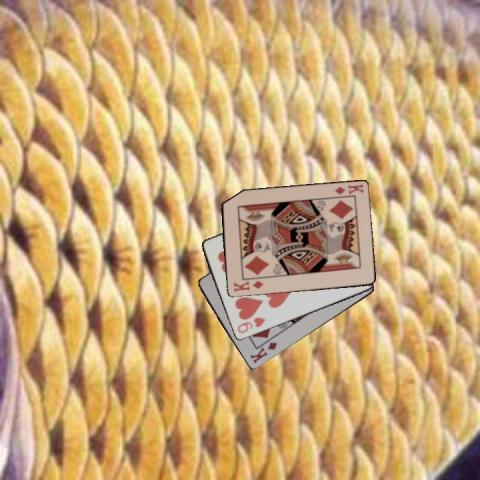9h: (234, 314, 267, 334)
Kd: (247, 340, 279, 366), (230, 278, 264, 294), (331, 181, 365, 196)
